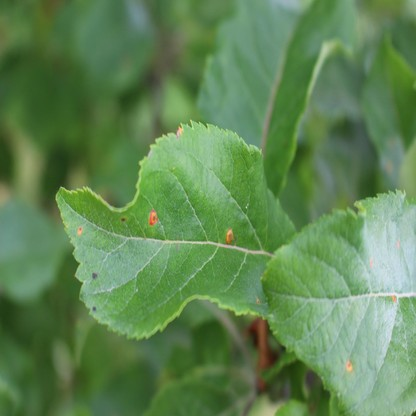rust: (150, 210, 157, 225), (226, 228, 232, 244), (347, 360, 353, 371), (176, 126, 183, 135), (369, 256, 373, 267), (77, 225, 82, 233), (392, 294, 397, 300), (396, 238, 399, 248)
